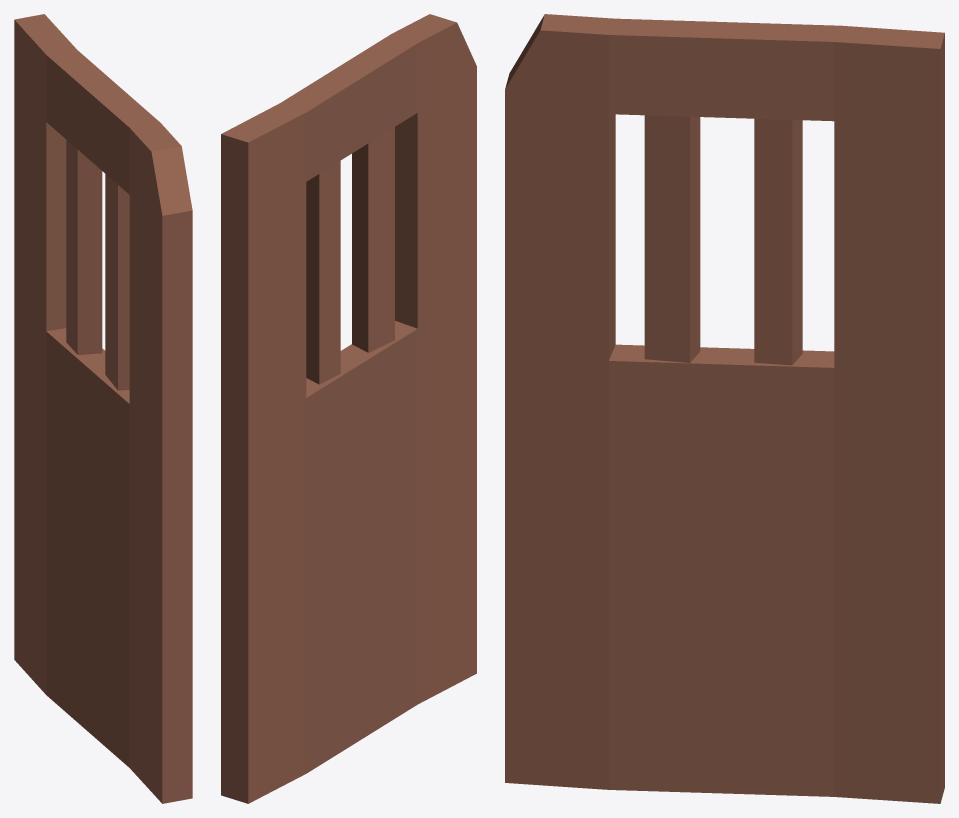
Rendered from door 1.fbx.
3 renders of one model, left to right at view 1: azimuth 30°, elevation 25°; view 2: azimuth 150°, elevation 25°; view 3: azimuth 270°, elevation 25°, orthographic. The views are drawn at different scales.
Parts seen in each view (by area): view 1: Cube.027; view 2: Cube.027; view 3: Cube.027.
Boxes of the visible parts, box(x1,y1,x2,y2) form: Cube.027: box(14, 14, 192, 803); Cube.027: box(221, 14, 476, 803); Cube.027: box(505, 14, 944, 803).
Size of the model in its own units: 85.45 by 805 by 425.
